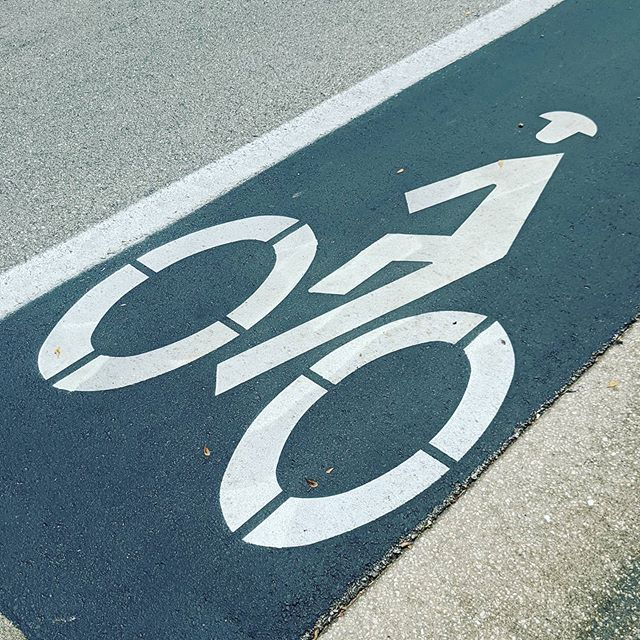street: (15, 23, 640, 632)
